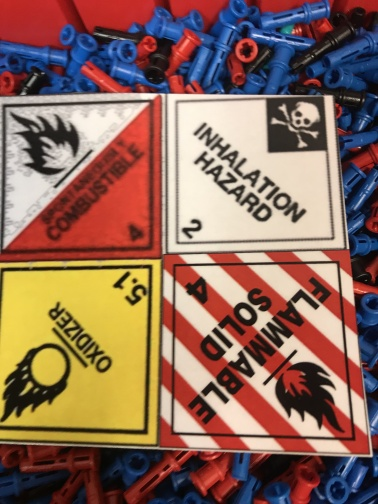FlammableSolid: (161, 251, 371, 456)
InhalationHazard: (167, 93, 345, 251)
Oxidizer: (2, 260, 158, 447)
SpontaneouslyCombustible: (1, 96, 163, 257)
